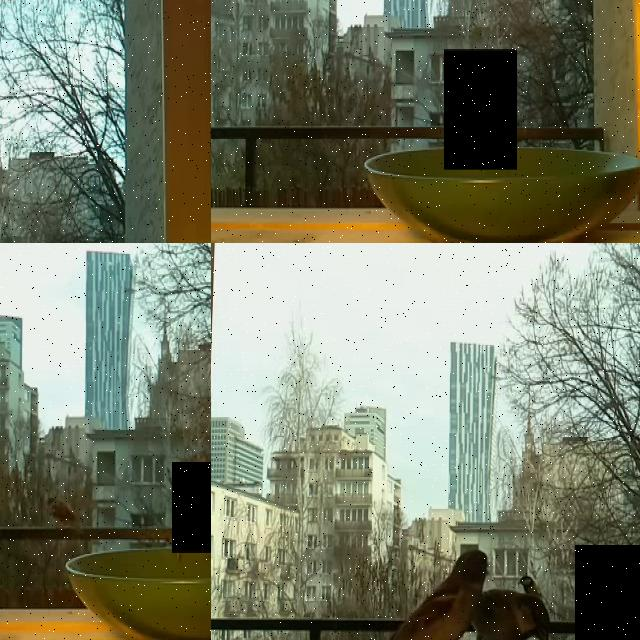Wrobel: (337, 546, 486, 640), (444, 49, 517, 170), (575, 545, 640, 640), (452, 587, 552, 640), (172, 462, 211, 552)
